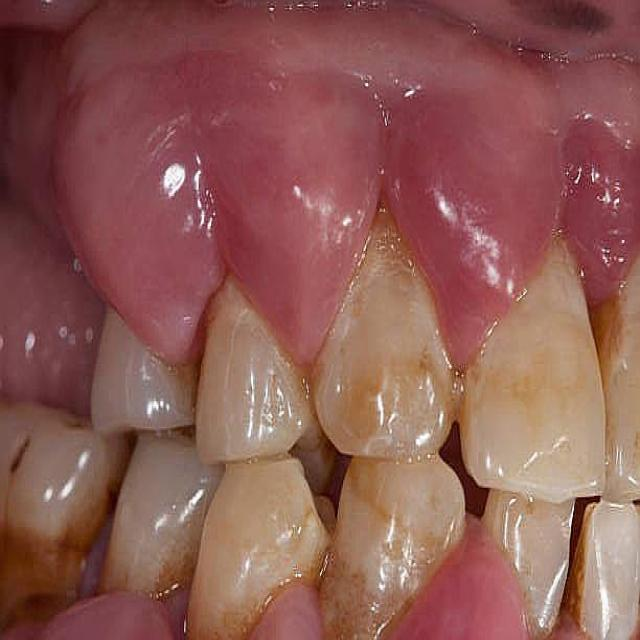caries: (5, 421, 50, 494)
